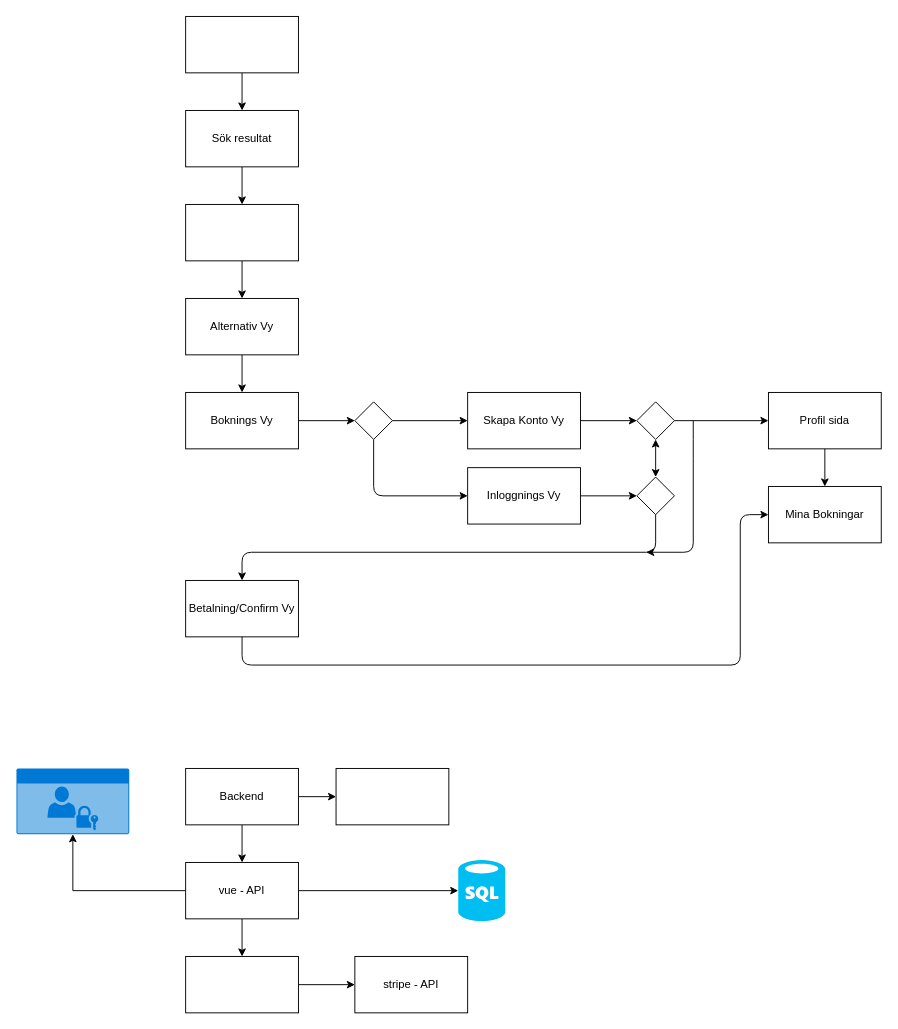
Some shapes in this 898 by 1029 pixel diagram are drawn without their labels. The centre of each missing label's shape, as x and y in pixels:
"Frontend (vue)" belongs at (241,984).
"Hotell Vy" belongs at (241,232).
"Landing Page Sökning av resmål" belongs at (241,44).
"Login" belongs at (72,801).
"Models" belongs at (392,796).
